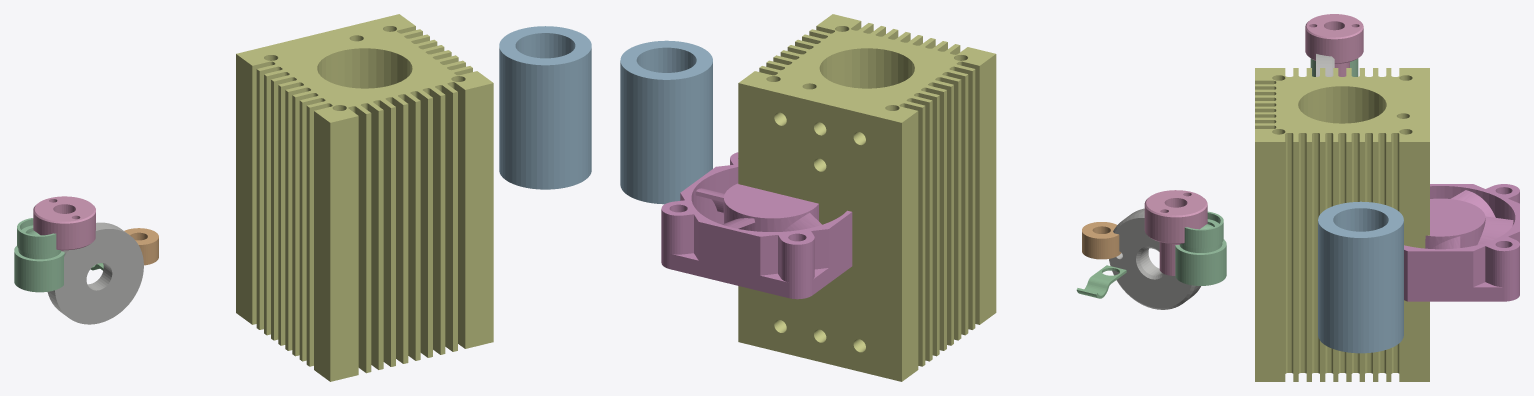
File: case-04_claude48.glb
3 renders of one model, left to right at view 1: azimuth 30°, elevation 25°; view 2: azimuth 150°, elevation 25°; view 3: azimuth 270°, elevation 25°, orthographic. The views are drawn at different scales.
Visible parts, largest first — view 1: c00001, c00006, c00005, c00008, c00007, c00003; view 2: c00001, c00002, c00006, c00005, c00007, c00008, c00003, c00004; view 3: c00001, c00006, c00002, c00007, c00005, c00008.
Part boxes in pixels (x1=…): c00001: x1=236, y1=14, x2=493, y2=381; c00006: x1=499, y1=26, x2=591, y2=189; c00005: x1=47, y1=222, x2=143, y2=324; c00008: x1=14, y1=218, x2=64, y2=292; c00007: x1=33, y1=196, x2=95, y2=251; c00003: x1=124, y1=228, x2=158, y2=265; c00001: x1=738, y1=14, x2=996, y2=381; c00002: x1=661, y1=152, x2=852, y2=299; c00006: x1=620, y1=40, x2=712, y2=204; c00005: x1=1109, y1=208, x2=1200, y2=309; c00007: x1=1144, y1=190, x2=1207, y2=275; c00008: x1=1175, y1=211, x2=1226, y2=285; c00003: x1=1082, y1=222, x2=1121, y2=259; c00004: x1=1076, y1=265, x2=1126, y2=298; c00001: x1=1255, y1=68, x2=1429, y2=381; c00006: x1=1318, y1=201, x2=1403, y2=353; c00002: x1=1404, y1=184, x2=1519, y2=301; c00007: x1=1305, y1=14, x2=1363, y2=76; c00005: x1=1316, y1=54, x2=1334, y2=76; c00008: x1=1310, y1=58, x2=1358, y2=76.
Bounding box in the file's own units: 118 × 50 × 50.
